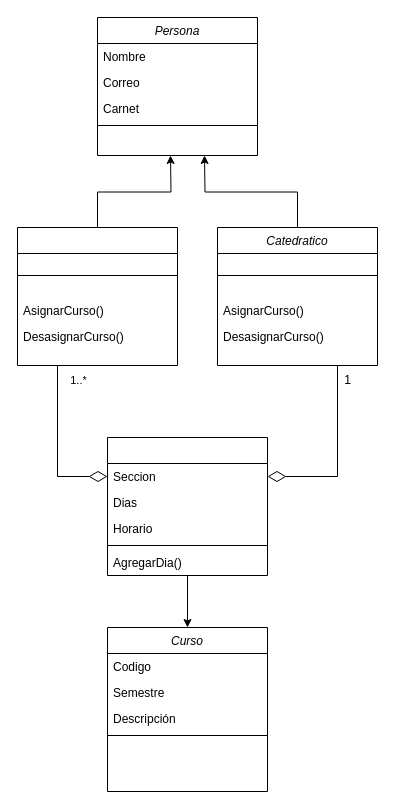
Image size: 395x809. Some labels were removed from this diagram. Each missing label, with the box of its shape:
Asignacion: (106, 436, 268, 576)
Estudiante: (16, 226, 178, 366)
